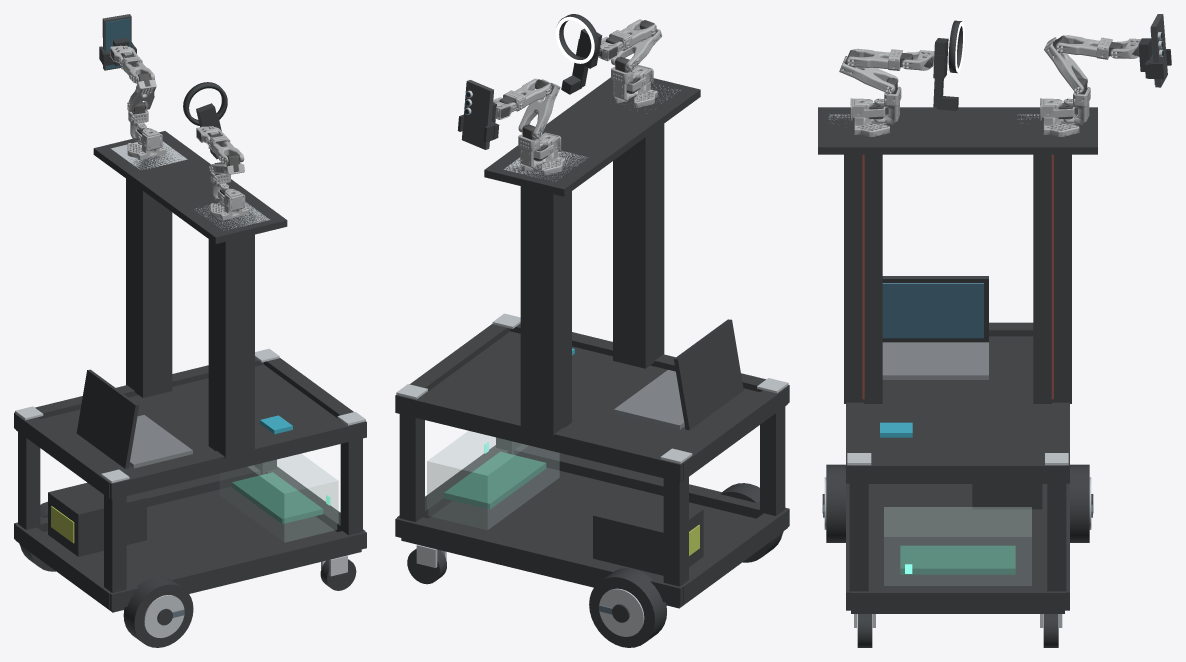
The model's file is take-one-ring.glb.
3 renders of one model, left to right at view 1: azimuth 30°, elevation 25°; view 2: azimuth 150°, elevation 25°; view 3: azimuth 270°, elevation 25°, orthographic. The views are drawn at different scales.
Visible parts, largest first — view 1: cart_box, upright_rear, upright_front, cart_work_deck, cart_deck, electronics_box, frame_side_0.25_0.49, frame_side_0.25_0.15, battery, laptop_lid, frame_end_-0.39_0.15, frame_end_-0.39_0.49 (+20 smaller); view 2: upright_front, cart_work_deck, upright_rear, cart_box, cart_deck, electronics_box, frame_side_-0.25_0.49, frame_side_-0.25_0.15, battery, laptop_lid, frame_side_0.25_0.15, frame_end_-0.39_0.15 (+19 smaller); view 3: cart_work_deck, cart_box, electronics_box, cart_deck, upright_rear, upright_front, laptop_screen, frame_end_0.39_0.15, frame_end_0.39_0.49, laptop_keyboard, electronics_board, corner_leg_-0.24_0.38 (+23 smaller).
Part boxes in pixels (bbox=[...]): cart_box: bbox=[19, 486, 361, 612]; upright_rear: bbox=[208, 234, 254, 458]; upright_front: bbox=[126, 178, 172, 397]; cart_work_deck: bbox=[40, 364, 339, 473]; cart_deck: bbox=[93, 131, 287, 243]; electronics_box: bbox=[220, 454, 338, 542]; frame_side_0.25_0.49: bbox=[109, 420, 366, 499]; frame_side_0.25_0.15: bbox=[109, 530, 366, 610]; battery: bbox=[48, 482, 146, 556]; laptop_lid: bbox=[76, 369, 139, 468]; frame_end_-0.39_0.15: bbox=[15, 524, 111, 608]; frame_end_-0.39_0.49: bbox=[15, 414, 110, 498]; upright_front: bbox=[520, 186, 571, 435]; cart_work_deck: bbox=[425, 331, 759, 452]; upright_rear: bbox=[613, 124, 664, 368]; cart_box: bbox=[401, 467, 783, 608]; cart_deck: bbox=[484, 77, 700, 196]; electronics_box: bbox=[427, 431, 559, 529]; frame_side_-0.25_0.49: bbox=[395, 394, 688, 482]; frame_side_-0.25_0.15: bbox=[395, 516, 688, 605]; battery: bbox=[593, 490, 703, 575]; laptop_lid: bbox=[673, 319, 743, 430]; frame_side_0.25_0.15: bbox=[514, 444, 789, 526]; frame_end_-0.39_0.15: bbox=[681, 510, 787, 604]; cart_work_deck: bbox=[864, 336, 1051, 458]; cart_box: bbox=[851, 484, 1064, 613]; electronics_box: bbox=[884, 507, 1031, 585]; cart_deck: bbox=[818, 107, 1097, 154]; upright_rear: bbox=[844, 154, 882, 403]; upright_front: bbox=[1033, 154, 1071, 403]; laptop_screen: bbox=[882, 283, 983, 338]; frame_end_0.39_0.15: bbox=[851, 585, 1064, 610]; frame_end_0.39_0.49: bbox=[851, 458, 1064, 483]; laptop_keyboard: bbox=[882, 342, 988, 379]; electronics_board: bbox=[900, 545, 1015, 574]; corner_leg_-0.24_0.38: bbox=[1047, 483, 1066, 591].
Bounding box in the file's own units: 0.824 × 1.54 × 0.8594.
